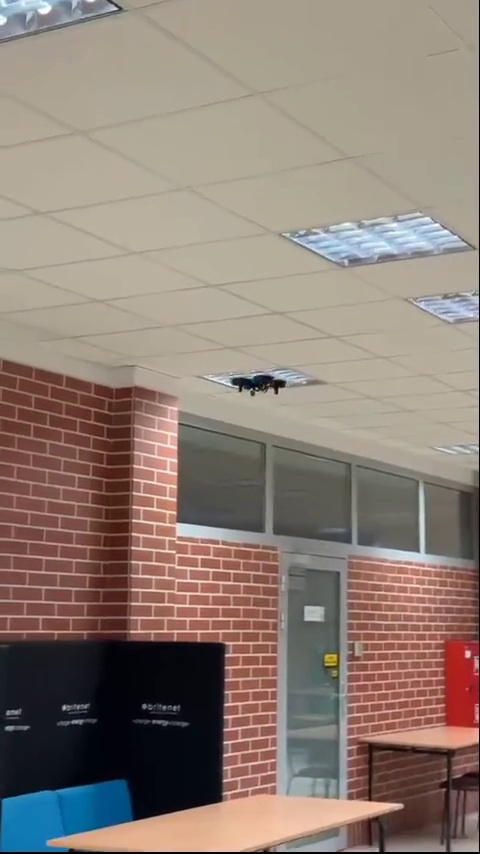drone: (230, 373, 288, 399)
